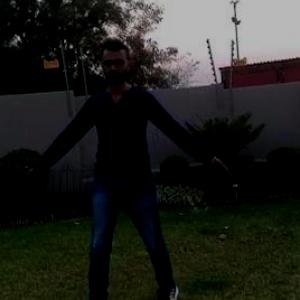land: (26, 45, 215, 299)
